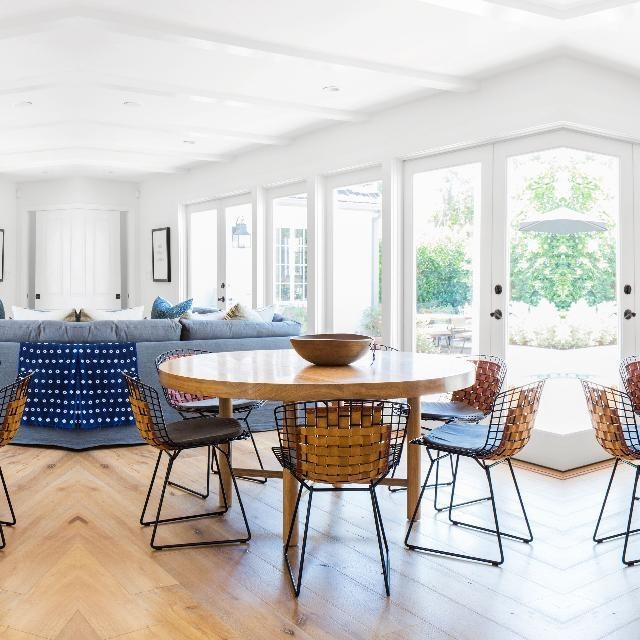obstacle: (89, 359, 265, 557), (268, 384, 414, 596), (428, 372, 556, 576), (568, 372, 640, 575), (0, 359, 65, 557)
